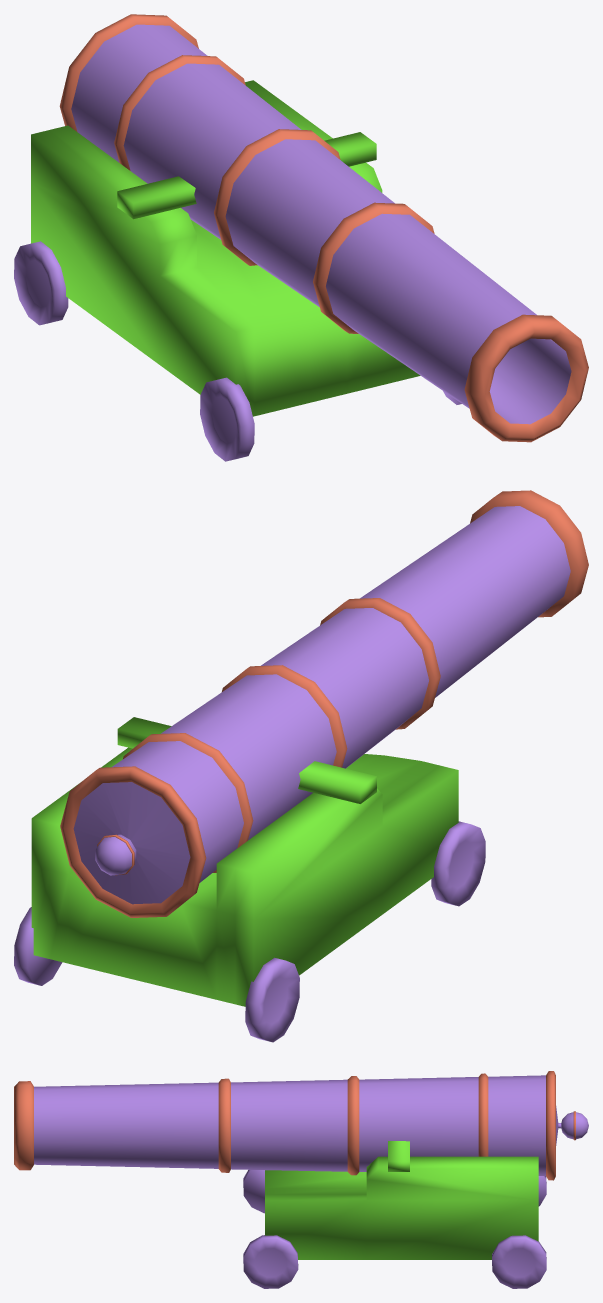
The model's file is cannon.fbx.
3 renders of one model, top to bottom at view 1: azimuth 30°, elevation 25°; view 2: azimuth 150°, elevation 25°; view 3: azimuth 270°, elevation 25°, orthographic. The views are drawn at different scales.
Visible parts, largest first — view 1: cannon; view 2: cannon; view 3: cannon.
Part boxes in pixels (box(x1,y1,x2,y2)): cannon: box(14, 14, 588, 461); cannon: box(14, 490, 588, 1042); cannon: box(14, 1071, 588, 1288).
Size of the model in its own units: 138 by 140 by 421.
